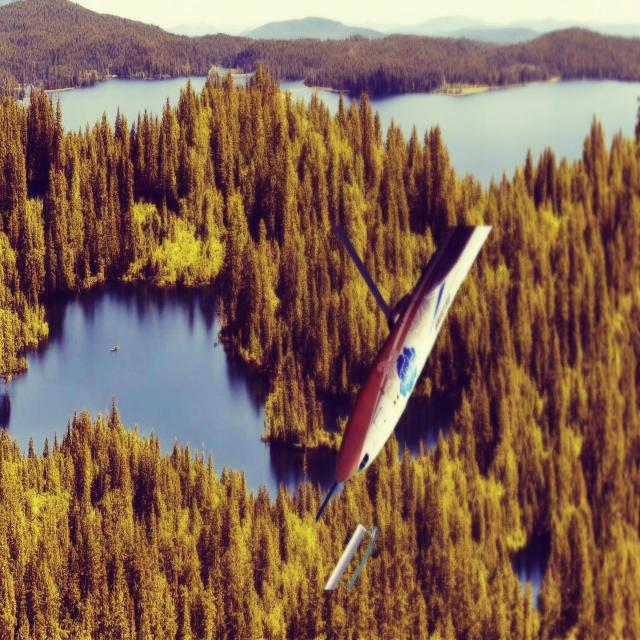airplane: (316, 224, 492, 590)
